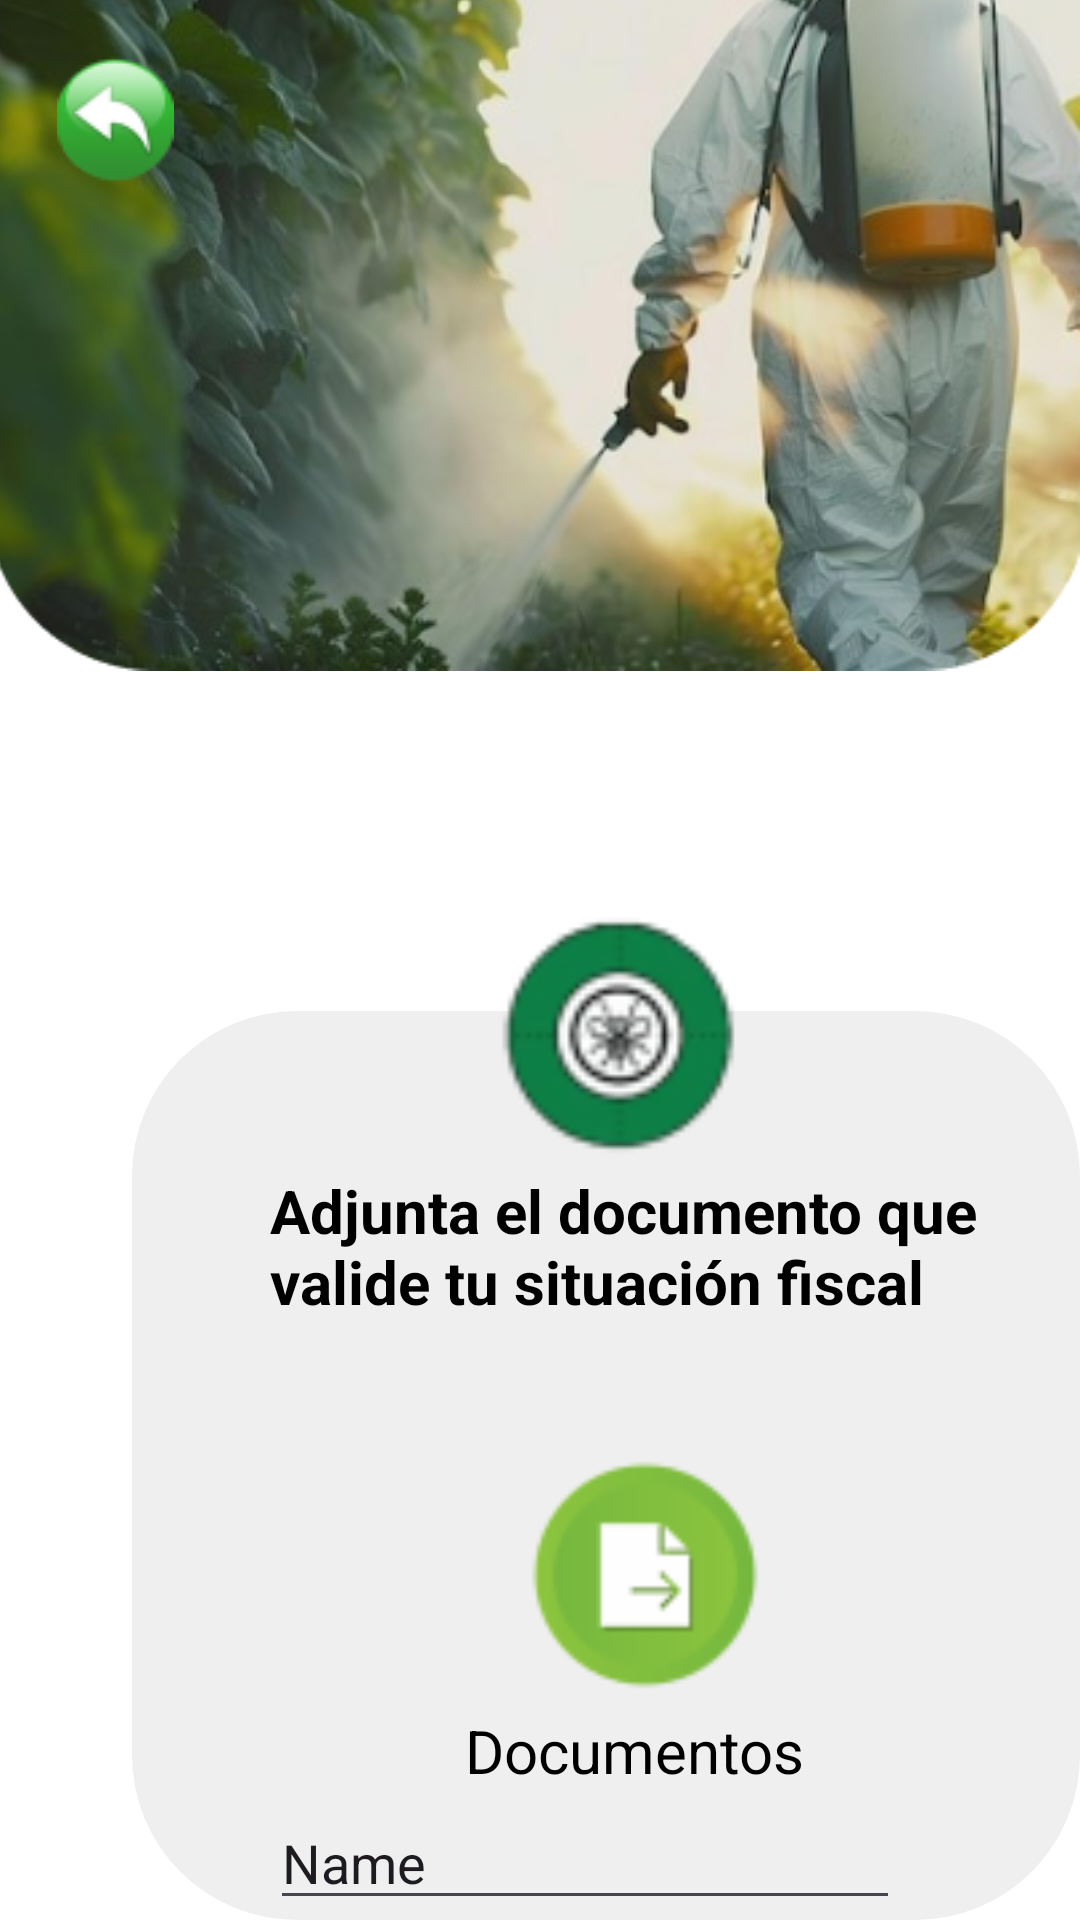

Screen size 1080px x 1920px. Icon name, then its center in pixels as [x,y]:
Flecha para regresar: [115,120]
Ícono para subir documento: [645,1575]
